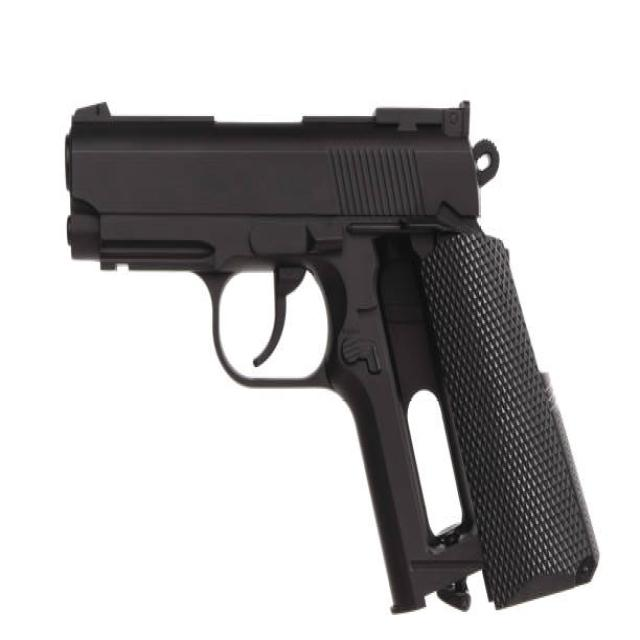pistol: (58, 94, 603, 620)
